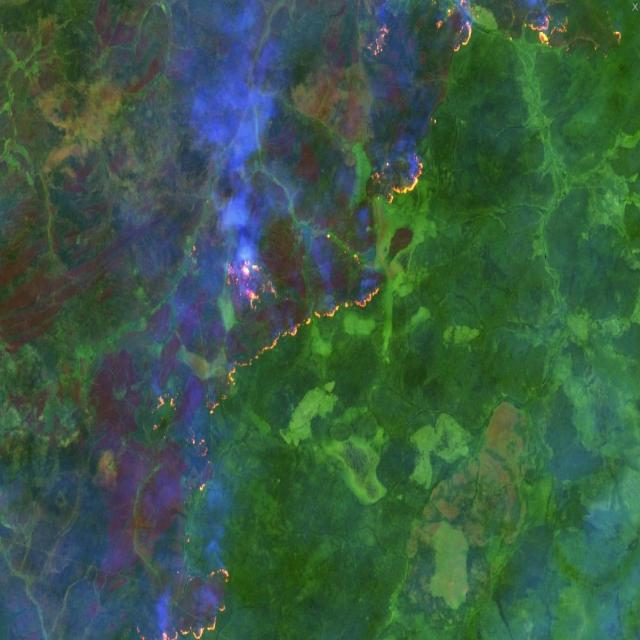fire: (135, 242, 381, 640), (365, 0, 571, 201)
